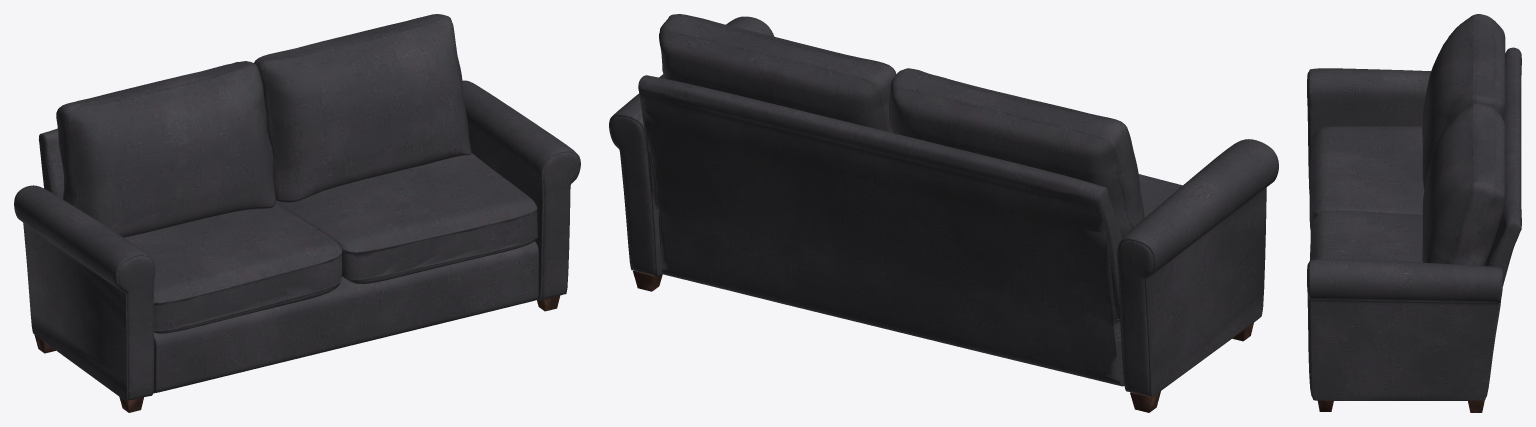
File: B07DBGPHG8.glb
3 views of the same model, side by side, from view 1: azimuth 30°, elevation 25°; view 2: azimuth 150°, elevation 25°; view 3: azimuth 270°, elevation 25° (orthographic). The views are drawn at different scales.
Visible parts, largest first — view 1: RootNode; view 2: RootNode; view 3: RootNode.
Boxes of the visible parts, box(x1,y1,x2,y2) form: RootNode: box(14, 14, 580, 412); RootNode: box(609, 14, 1278, 412); RootNode: box(1307, 14, 1521, 412).
Bounding box in the file's own units: 1.93 × 0.9422 × 0.8423.
Materials: 1 (1 with a texture image).
